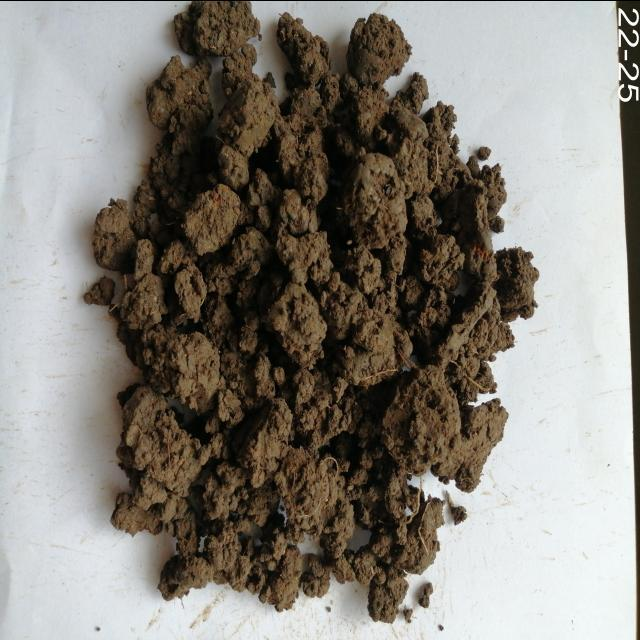soil: (176, 137, 442, 542)
